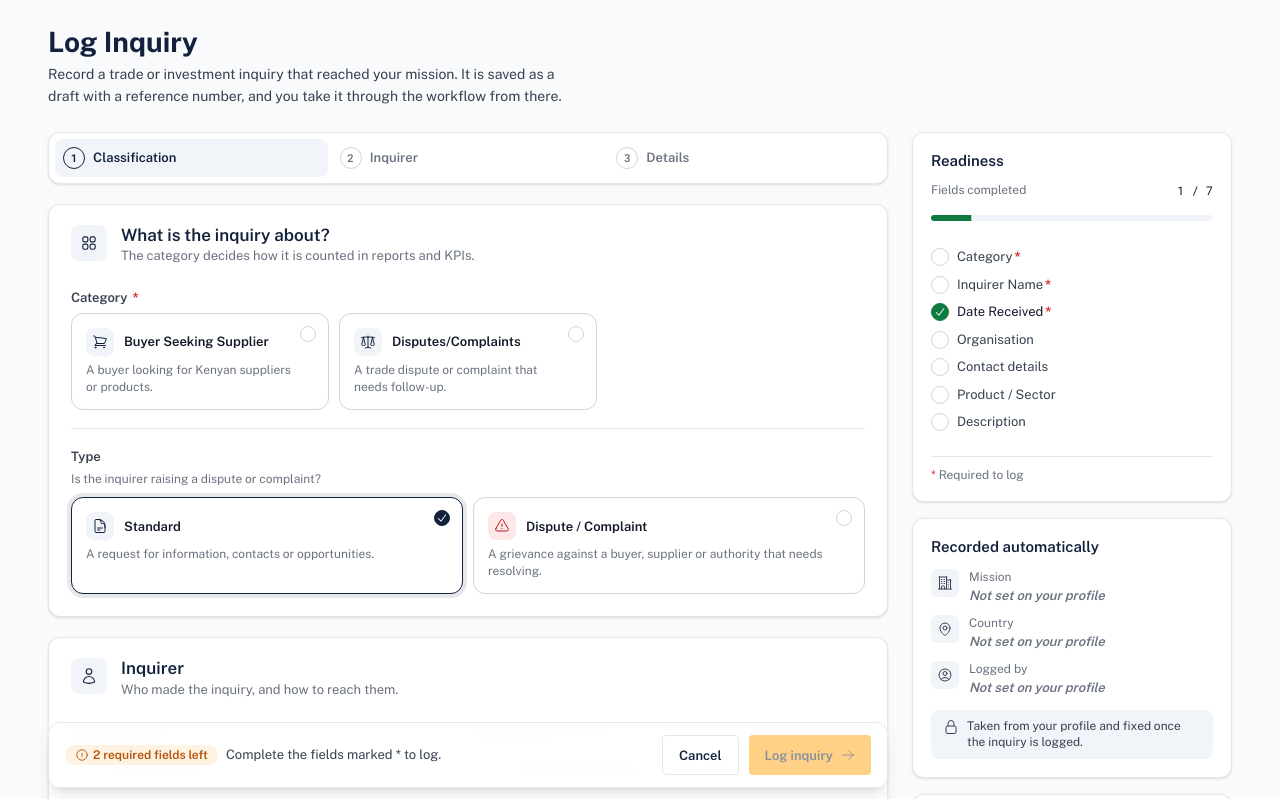
Test case: LogInquiryPage › TC-FR-INQ-022-B: choosing the Disputes/Complaints category offers to switch the type
Expected: the radio button labelled "Buyer Seeking Supplier" is shown, x1=71 y1=313 x2=329 y2=410
Click the radio button labelled "Disputes/Complaints".
click(468, 362)  # box x1=339 y1=313 x2=597 y2=410
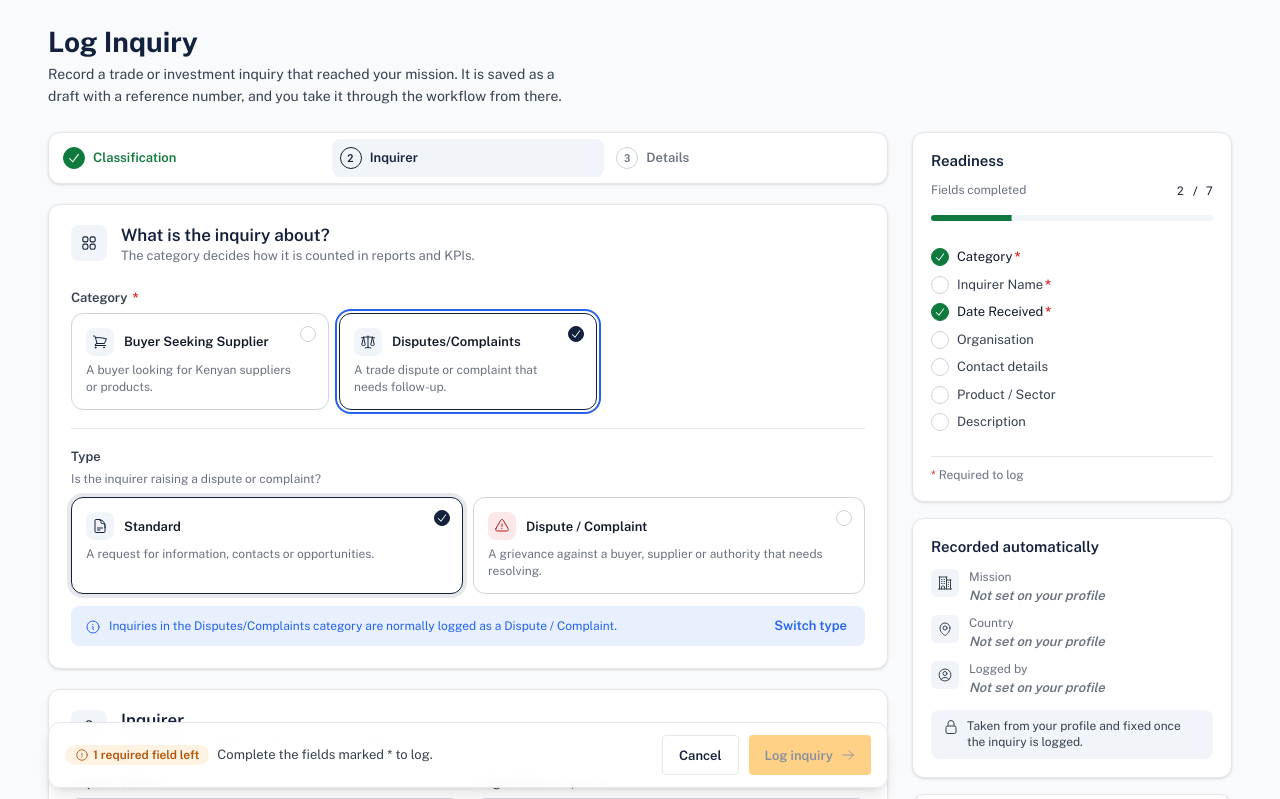
Click the button "Switch type".
click(811, 626)  # box x1=770 y1=616 x2=851 y2=636
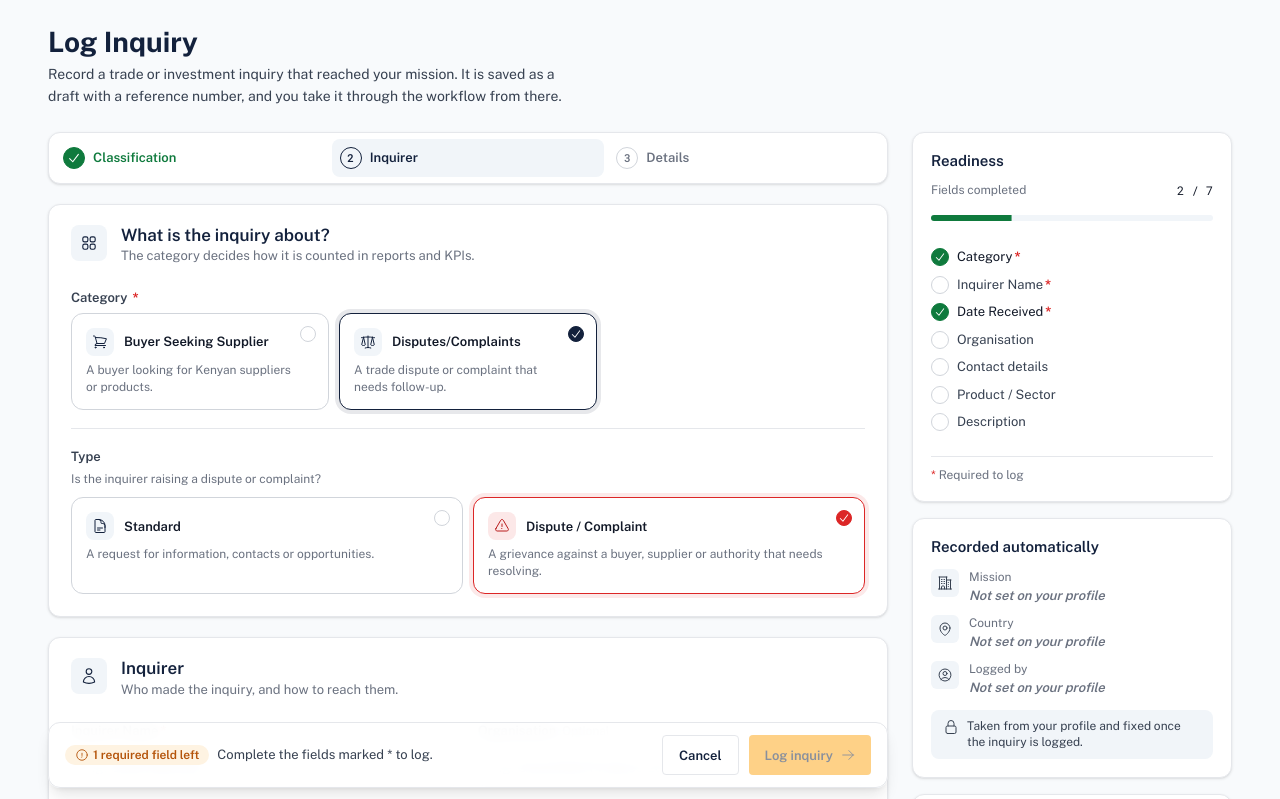
Expected: the radio button labelled "Dispute / Complaint" is checked, x1=473 y1=497 x2=865 y2=594
Expected: the button "Switch type" is gone
